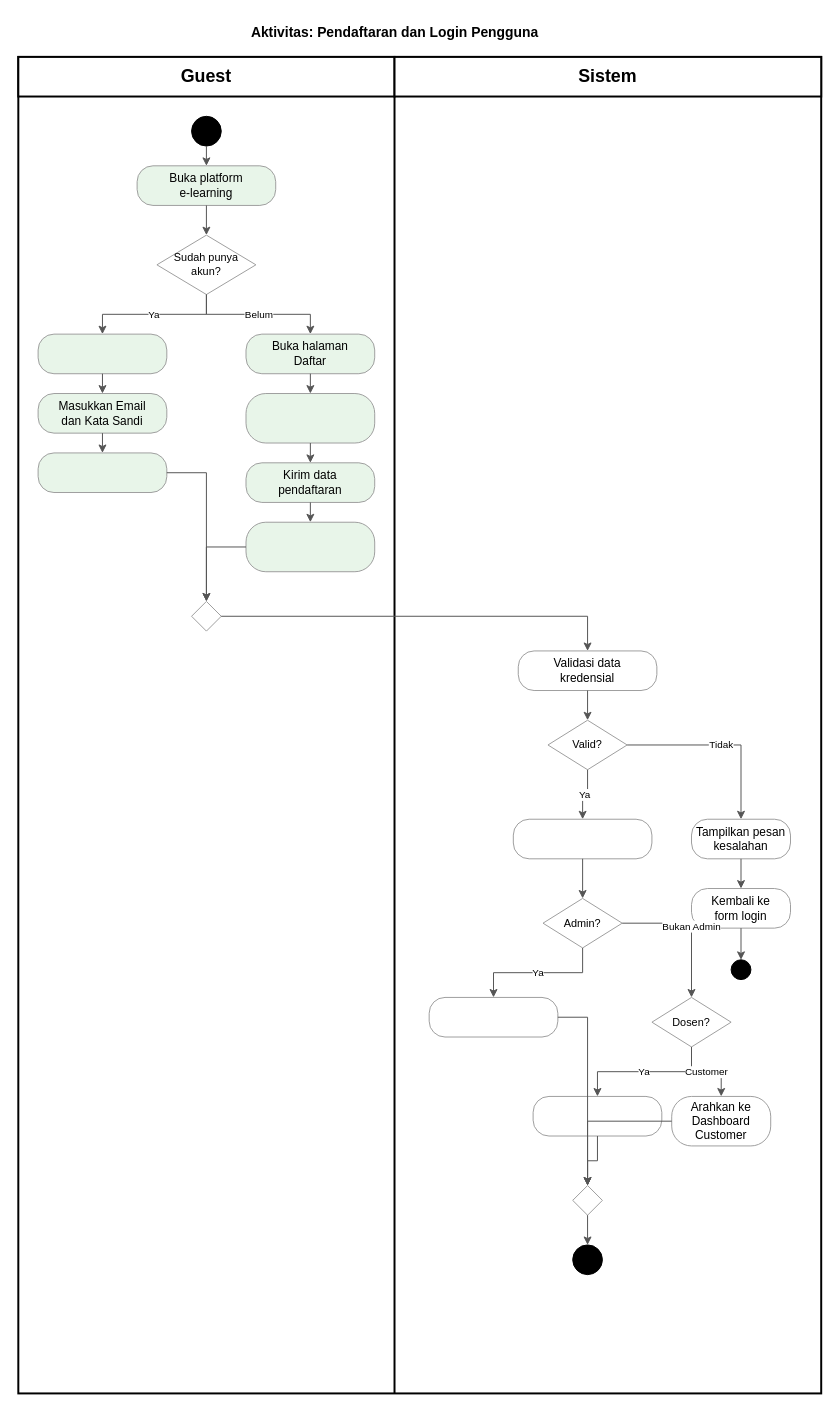
Image size: 839x1412. Some labels were removed from this diagram. Here are the shapes that lost their labels. From the top down, the box of each, then its label:
(37, 333, 167, 374): Buka halaman Login
(245, 393, 375, 443): Masukkan Nama, Email, dan Kata Sandi
(37, 452, 167, 493): Kirim data login
(245, 521, 375, 572): Akun berhasil dibuat (Otomatis Login)
(512, 818, 652, 859): Cek peran pengguna
(428, 996, 558, 1037): Arahkan ke Dashboard Admin
(532, 1095, 662, 1136): Arahkan ke Dashboard Dosen
